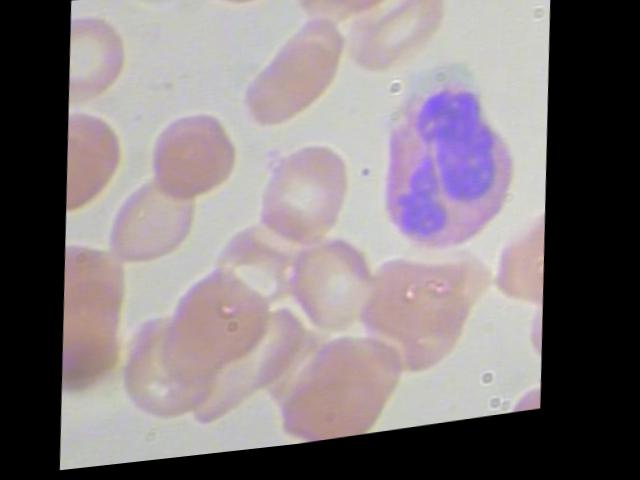Red Blood Cells: (162, 263, 283, 389), (235, 15, 354, 140), (246, 143, 360, 254), (280, 356, 402, 453), (328, 0, 450, 92), (281, 238, 382, 347), (107, 172, 202, 273), (149, 112, 239, 213), (66, 105, 132, 218), (67, 0, 133, 110), (493, 225, 551, 324), (287, 0, 411, 42), (169, 0, 286, 21)
White Blood Cells: (356, 70, 526, 279)
